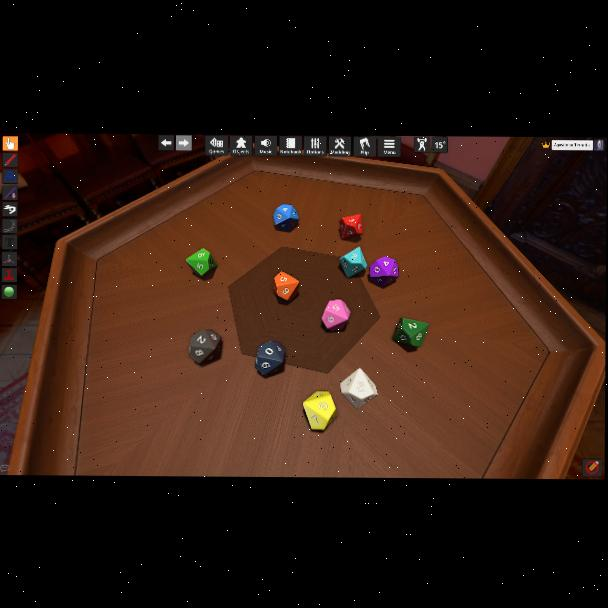d10: (340, 368, 378, 409), (303, 391, 335, 430), (189, 329, 222, 366), (255, 340, 285, 376), (393, 316, 426, 346), (370, 257, 400, 287), (185, 248, 215, 277), (338, 247, 366, 278), (321, 300, 348, 331), (273, 204, 300, 232), (273, 272, 299, 301), (339, 214, 362, 239)
